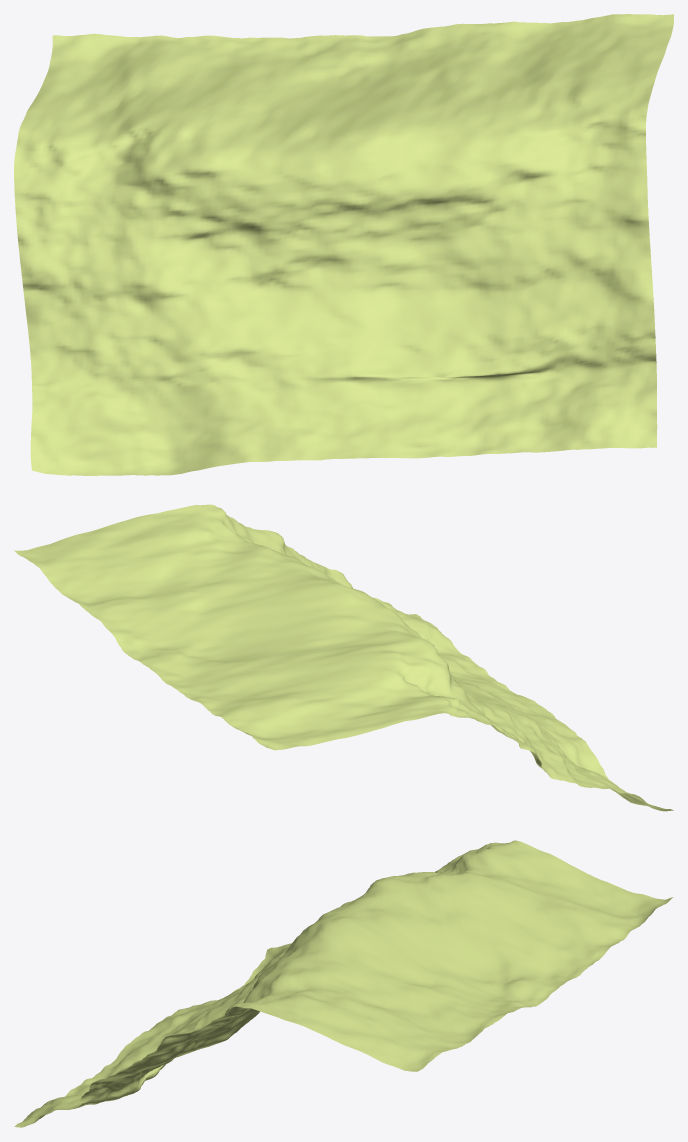
Rendered from Cliff_008.fbx.
The picture shows the model from 3 angles, top to bottom: view 1: azimuth 30°, elevation 25°; view 2: azimuth 150°, elevation 25°; view 3: azimuth 270°, elevation 25°; orthographic projection. The views are drawn at different scales.
Parts seen in each view (by area): view 1: Plane.008; view 2: Plane.008; view 3: Plane.008.
Part boxes in pixels (bbox=[...]): Plane.008: bbox=[14, 14, 673, 475]; Plane.008: bbox=[14, 504, 673, 811]; Plane.008: bbox=[14, 840, 673, 1127].
Size of the model in its own units: 905 by 279 by 847.
